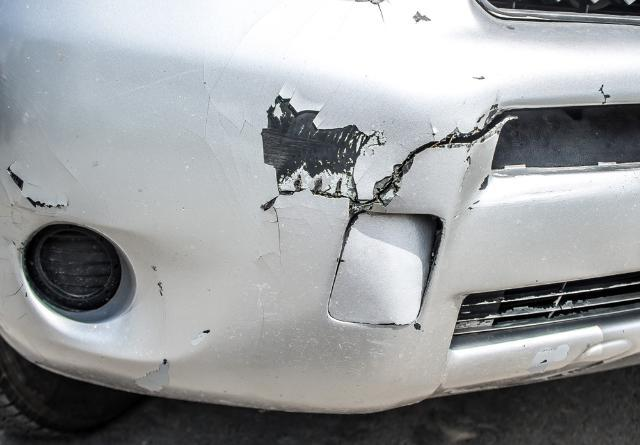crack: (259, 114, 509, 222), (3, 162, 66, 210)
dislocated part: (330, 215, 444, 331)
rub: (254, 82, 388, 190)
